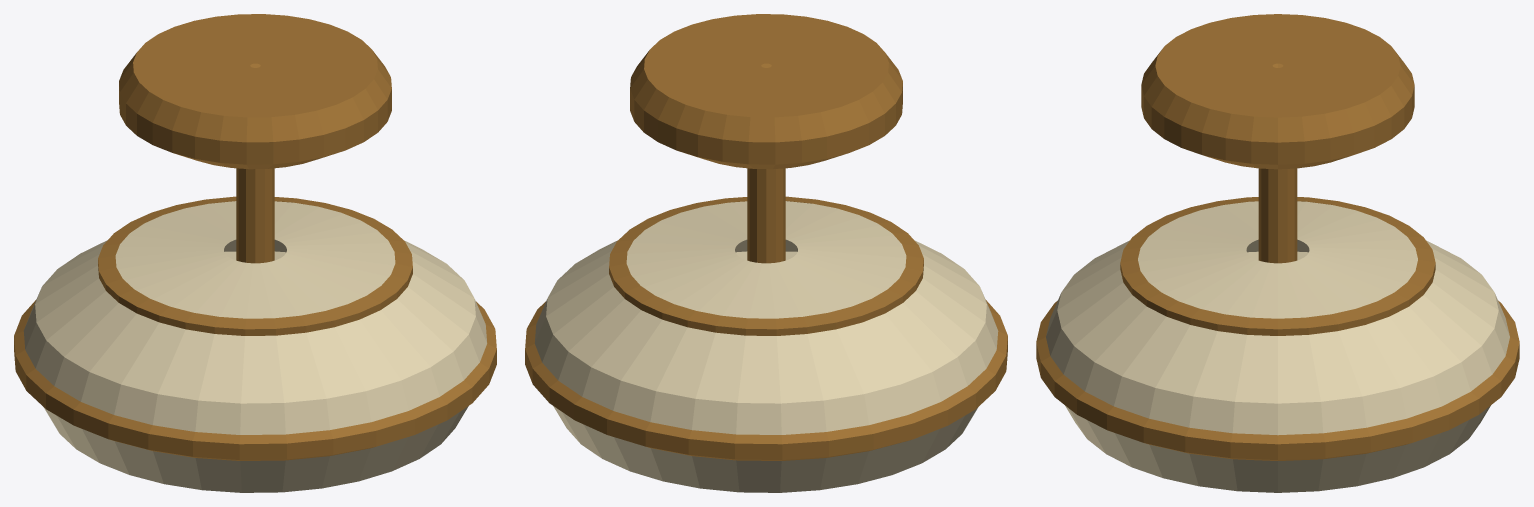
Rendered from BedroomCeilingLight.glb.
3 renders of one model, left to right at view 1: azimuth 30°, elevation 25°; view 2: azimuth 150°, elevation 25°; view 3: azimuth 270°, elevation 25°, orthographic.
Visible parts, largest first — view 1: OpalBowl, CeilingRose, BowlRim, ShadeUpperBand, PendantStem; view 2: OpalBowl, CeilingRose, BowlRim, ShadeUpperBand, PendantStem; view 3: OpalBowl, CeilingRose, BowlRim, ShadeUpperBand, PendantStem.
Boxes of the visible parts, x1,y1,x2,y2 form: OpalBowl: (23, 201, 487, 492); CeilingRose: (119, 14, 391, 169); BowlRim: (14, 300, 496, 460); ShadeUpperBand: (98, 196, 412, 335); PendantStem: (236, 168, 274, 263); OpalBowl: (534, 201, 998, 492); CeilingRose: (630, 14, 902, 169); BowlRim: (525, 300, 1007, 460); ShadeUpperBand: (609, 196, 923, 335); PendantStem: (747, 168, 785, 263); OpalBowl: (1046, 201, 1509, 492); CeilingRose: (1141, 14, 1414, 169); BowlRim: (1036, 300, 1519, 460); ShadeUpperBand: (1120, 197, 1435, 335); PendantStem: (1258, 168, 1297, 263).
Size of the model in its own units: 1.38 by 1.29 by 1.38.
